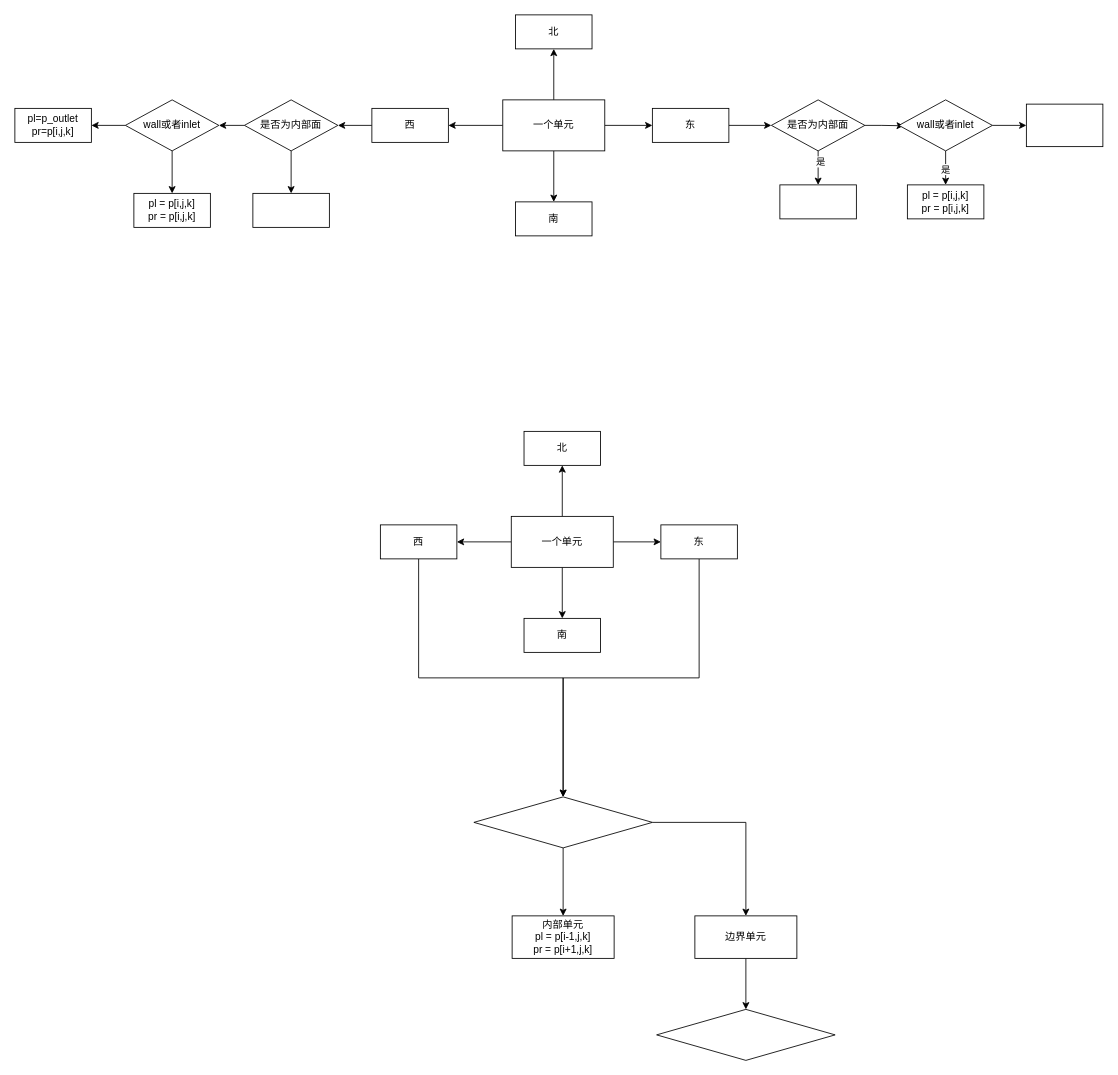
Image size: 1118x1075. Some labels were removed from this diagram. The shapes that lost their labels are listed below. From the top down, each one's box as (x1, y1, x2, y2) in pixels, then its label:
(1026, 103, 1103, 147): pl=p[i,j,k] pr=p_outlet
(252, 193, 329, 227): pl = p[i-1,j,k] pr = p[i,j,k]
(779, 184, 856, 219): pl = p[i,j,k] pr = p[i+1,j,k]
(473, 796, 652, 848): 如果两边都为none
(656, 1009, 835, 1060): 如果
